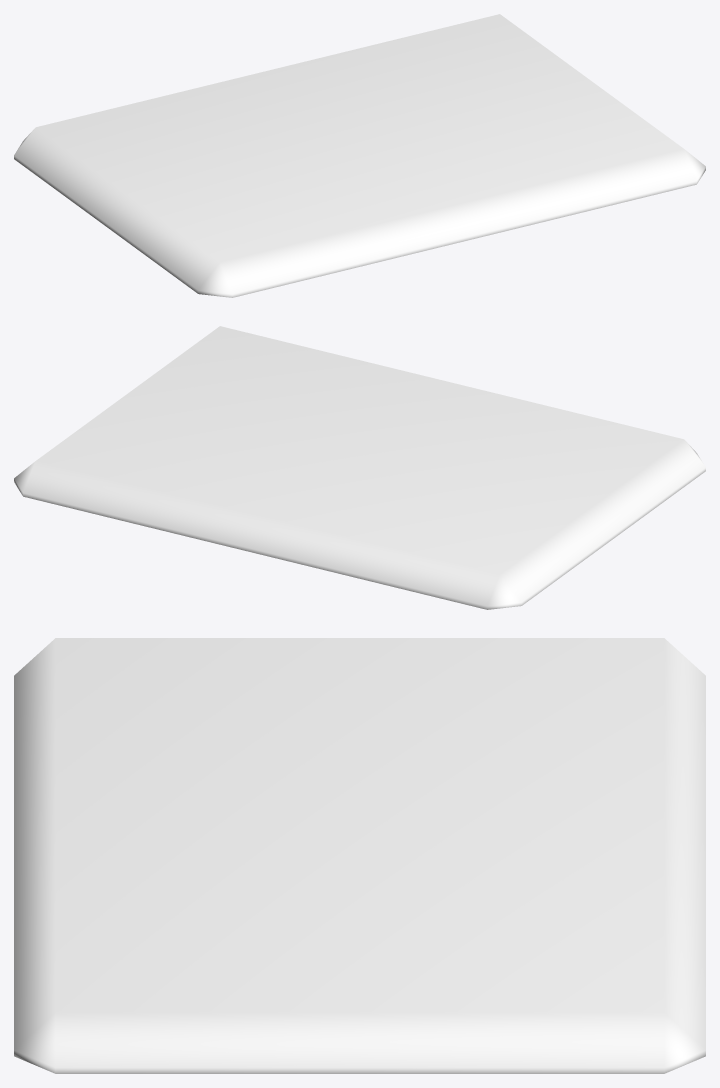
Rendered from folded_bag.glb.
3 renders of one model, top to bottom at view 1: azimuth 30°, elevation 25°; view 2: azimuth 150°, elevation 25°; view 3: azimuth 270°, elevation 25°, orthographic. The views are drawn at different scales.
Parts seen in each view (by area): view 1: FoldedBag; view 2: FoldedBag; view 3: FoldedBag.
Boxes of the visible parts, x1,y1,x2,y2 form: FoldedBag: [14, 14, 705, 297]; FoldedBag: [14, 326, 705, 609]; FoldedBag: [14, 638, 705, 1073].
Bounding box in the file's own units: 0.28 × 0.014 × 0.2.
1 material, 1 textured.
